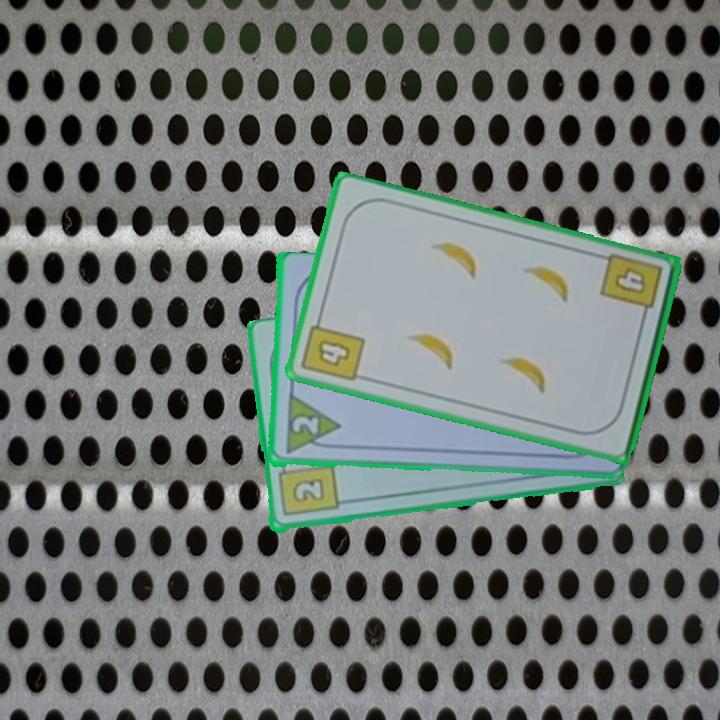2b: (274, 458, 340, 520)
2p: (282, 393, 342, 457)
4b: (298, 311, 368, 385), (597, 249, 665, 325)
